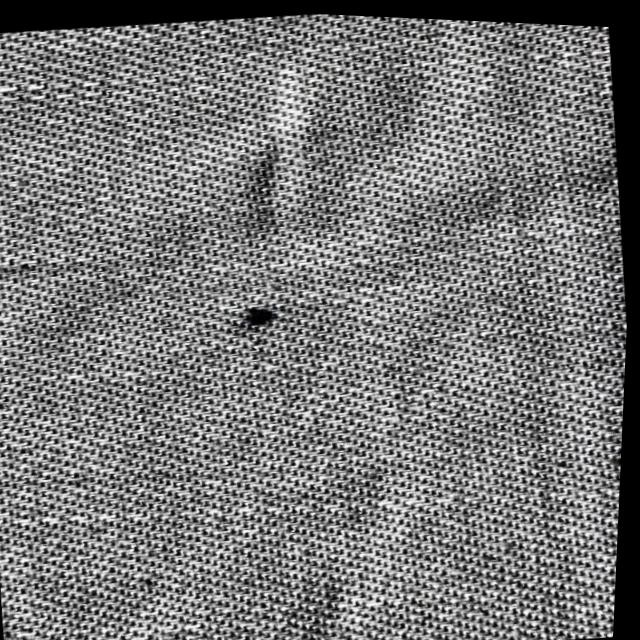Hole: (215, 286, 307, 347)
